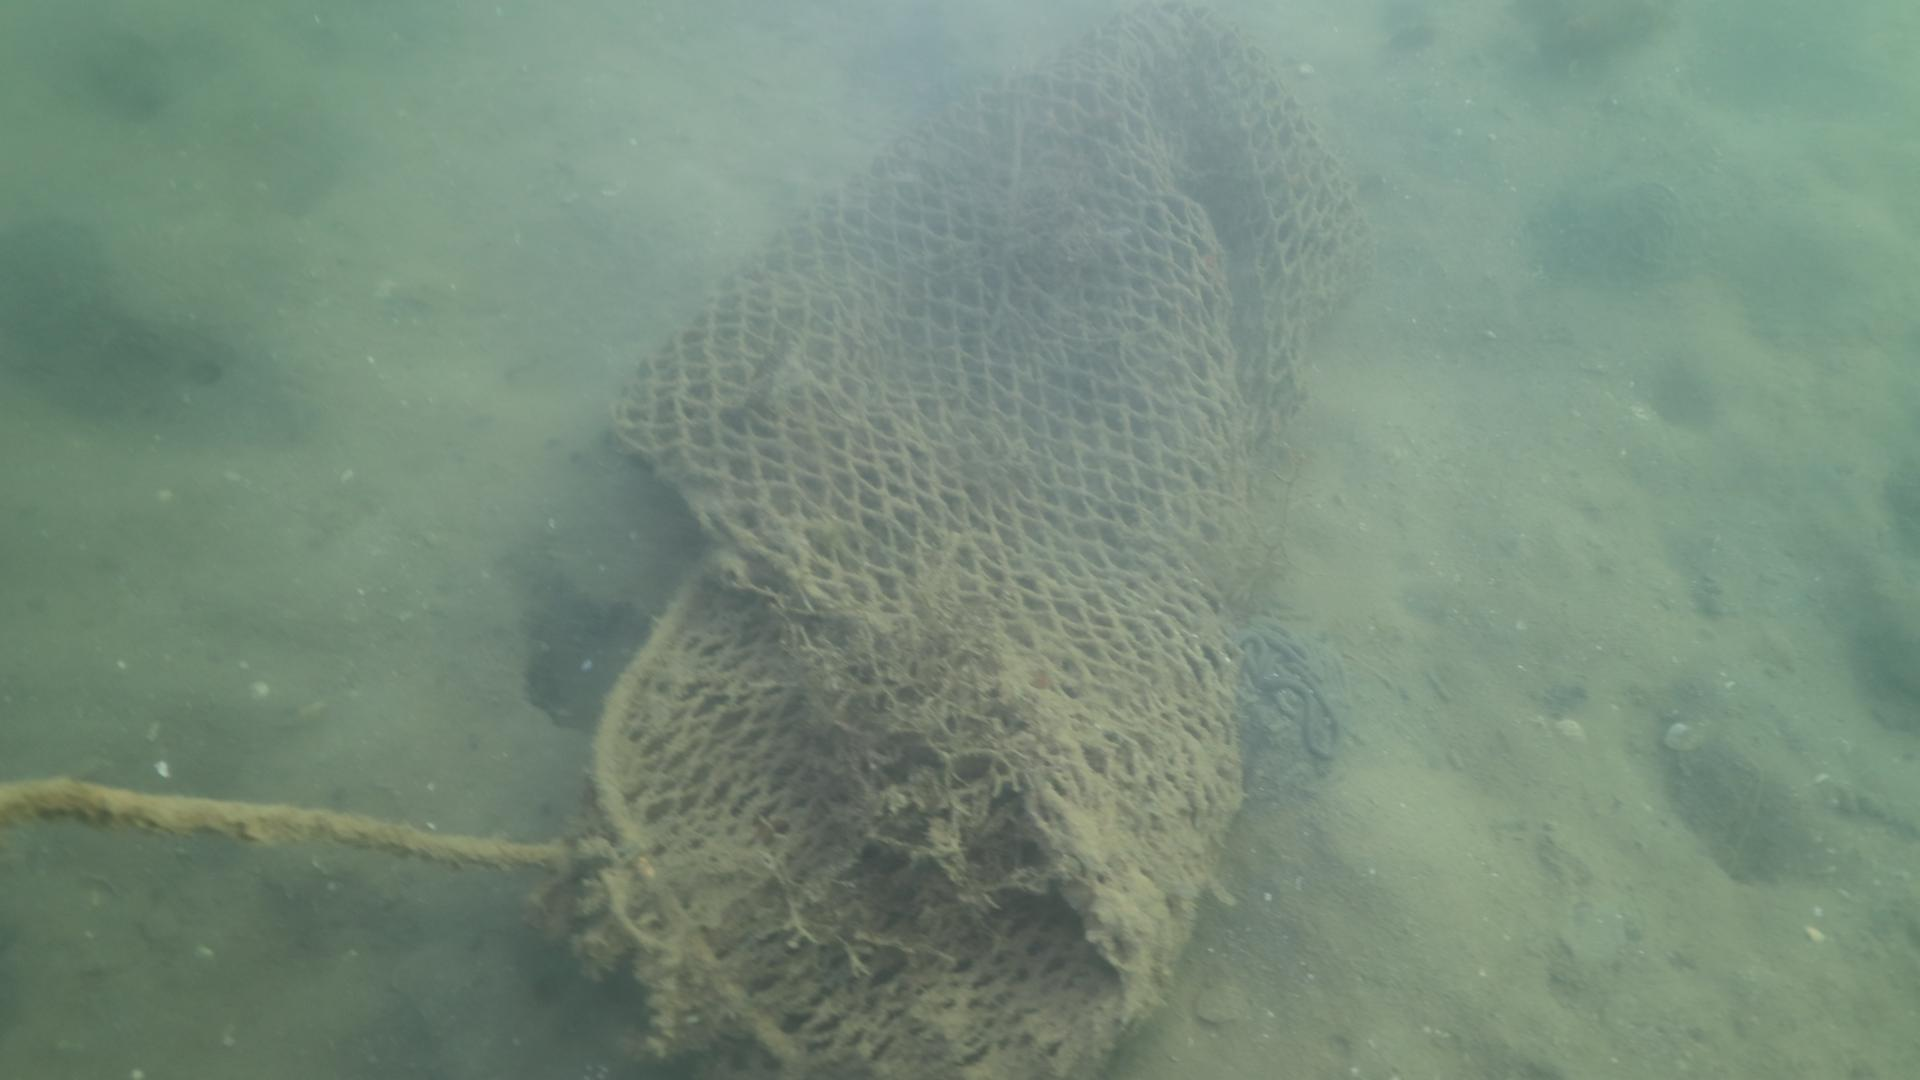fish net: (609, 0, 1377, 1080)
